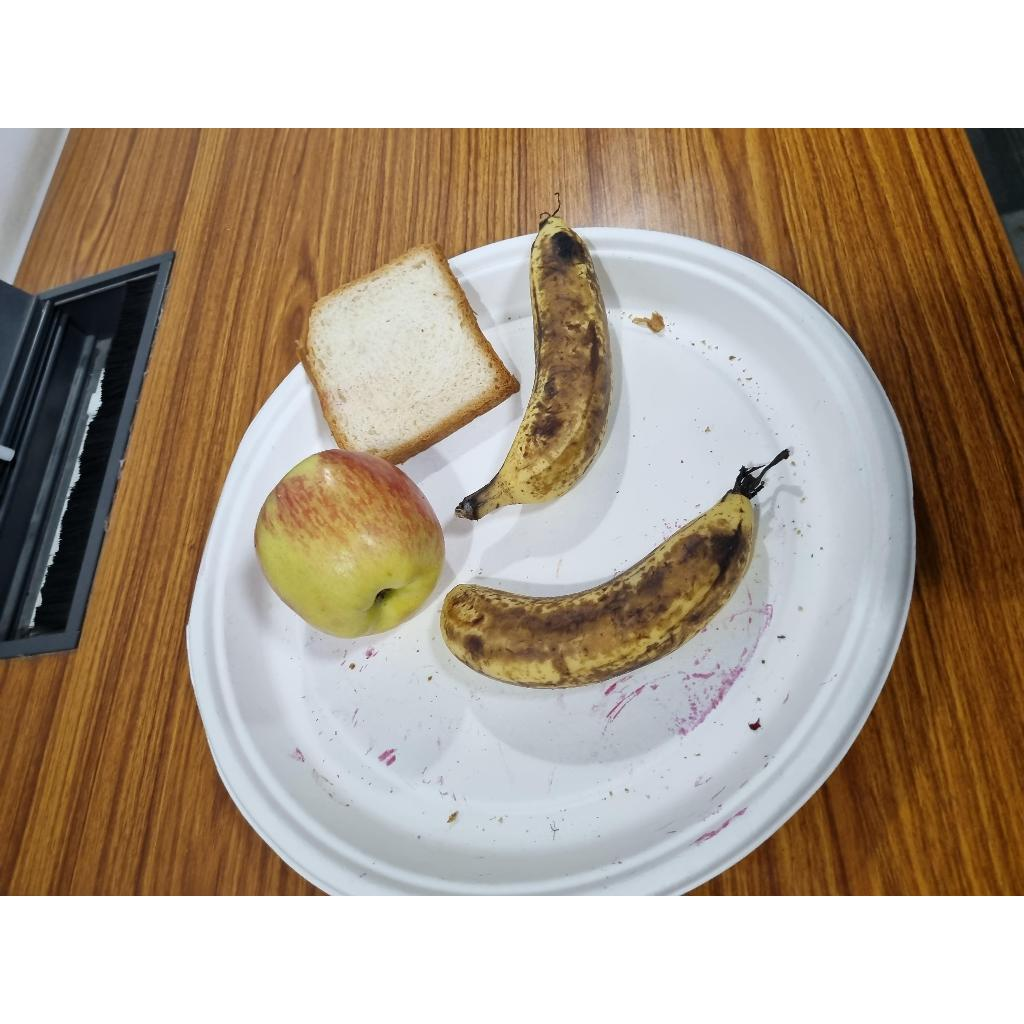apple: (258, 450, 445, 641)
banana: (441, 491, 755, 688), (455, 215, 611, 519)
